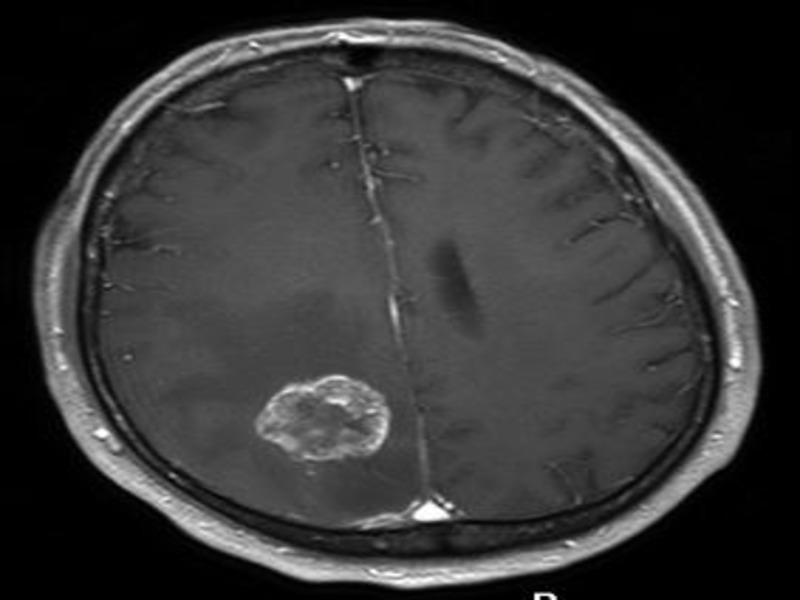tumor: (251, 370, 396, 467)
